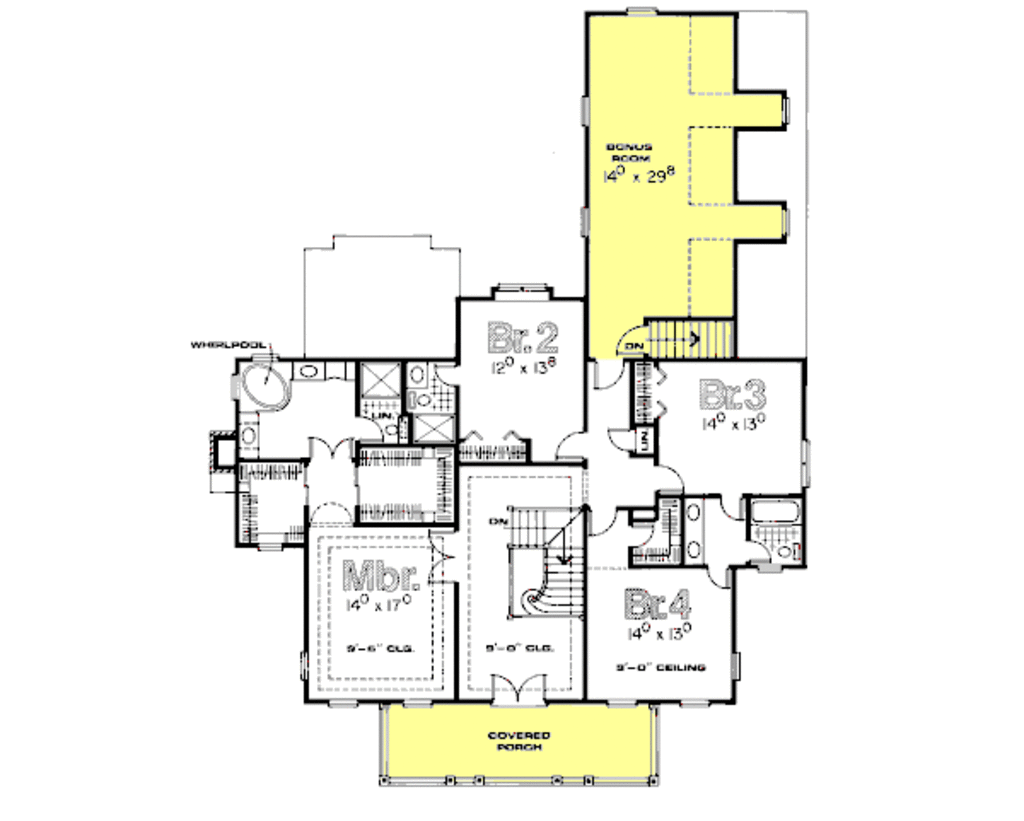door: (484, 670, 550, 715), (425, 528, 464, 586), (303, 429, 355, 462), (556, 426, 590, 467), (588, 357, 625, 391), (428, 359, 461, 395), (356, 409, 388, 446), (705, 563, 735, 596), (587, 507, 618, 538), (719, 490, 745, 526), (602, 425, 633, 454), (745, 535, 771, 564)
large_sink: (775, 537, 809, 566)
small_sink: (683, 498, 709, 565), (235, 410, 261, 460), (296, 357, 326, 377)
stairs: (498, 502, 590, 623), (642, 308, 742, 364)
tub: (236, 357, 294, 413), (752, 496, 806, 529)
window: (492, 278, 549, 301), (614, 4, 663, 23), (725, 648, 746, 686), (673, 695, 712, 715), (602, 696, 642, 715), (799, 436, 812, 492), (578, 203, 594, 247), (777, 201, 795, 240), (775, 94, 793, 129), (578, 89, 592, 134), (326, 693, 362, 710), (398, 698, 440, 712), (253, 540, 289, 556)
